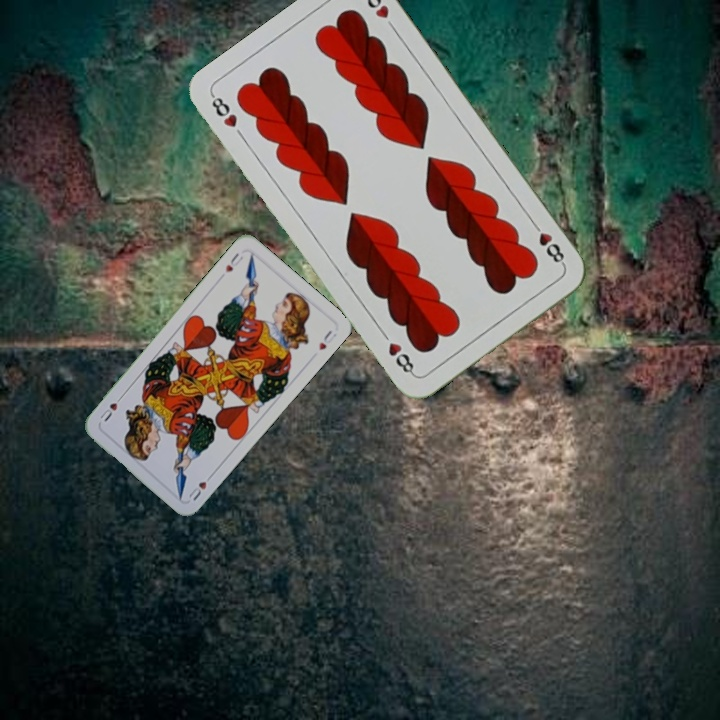H8: (528, 217, 568, 269), (207, 91, 247, 142)
HU: (184, 469, 216, 503), (221, 249, 246, 275)
